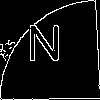N: (25, 24, 63, 71)
